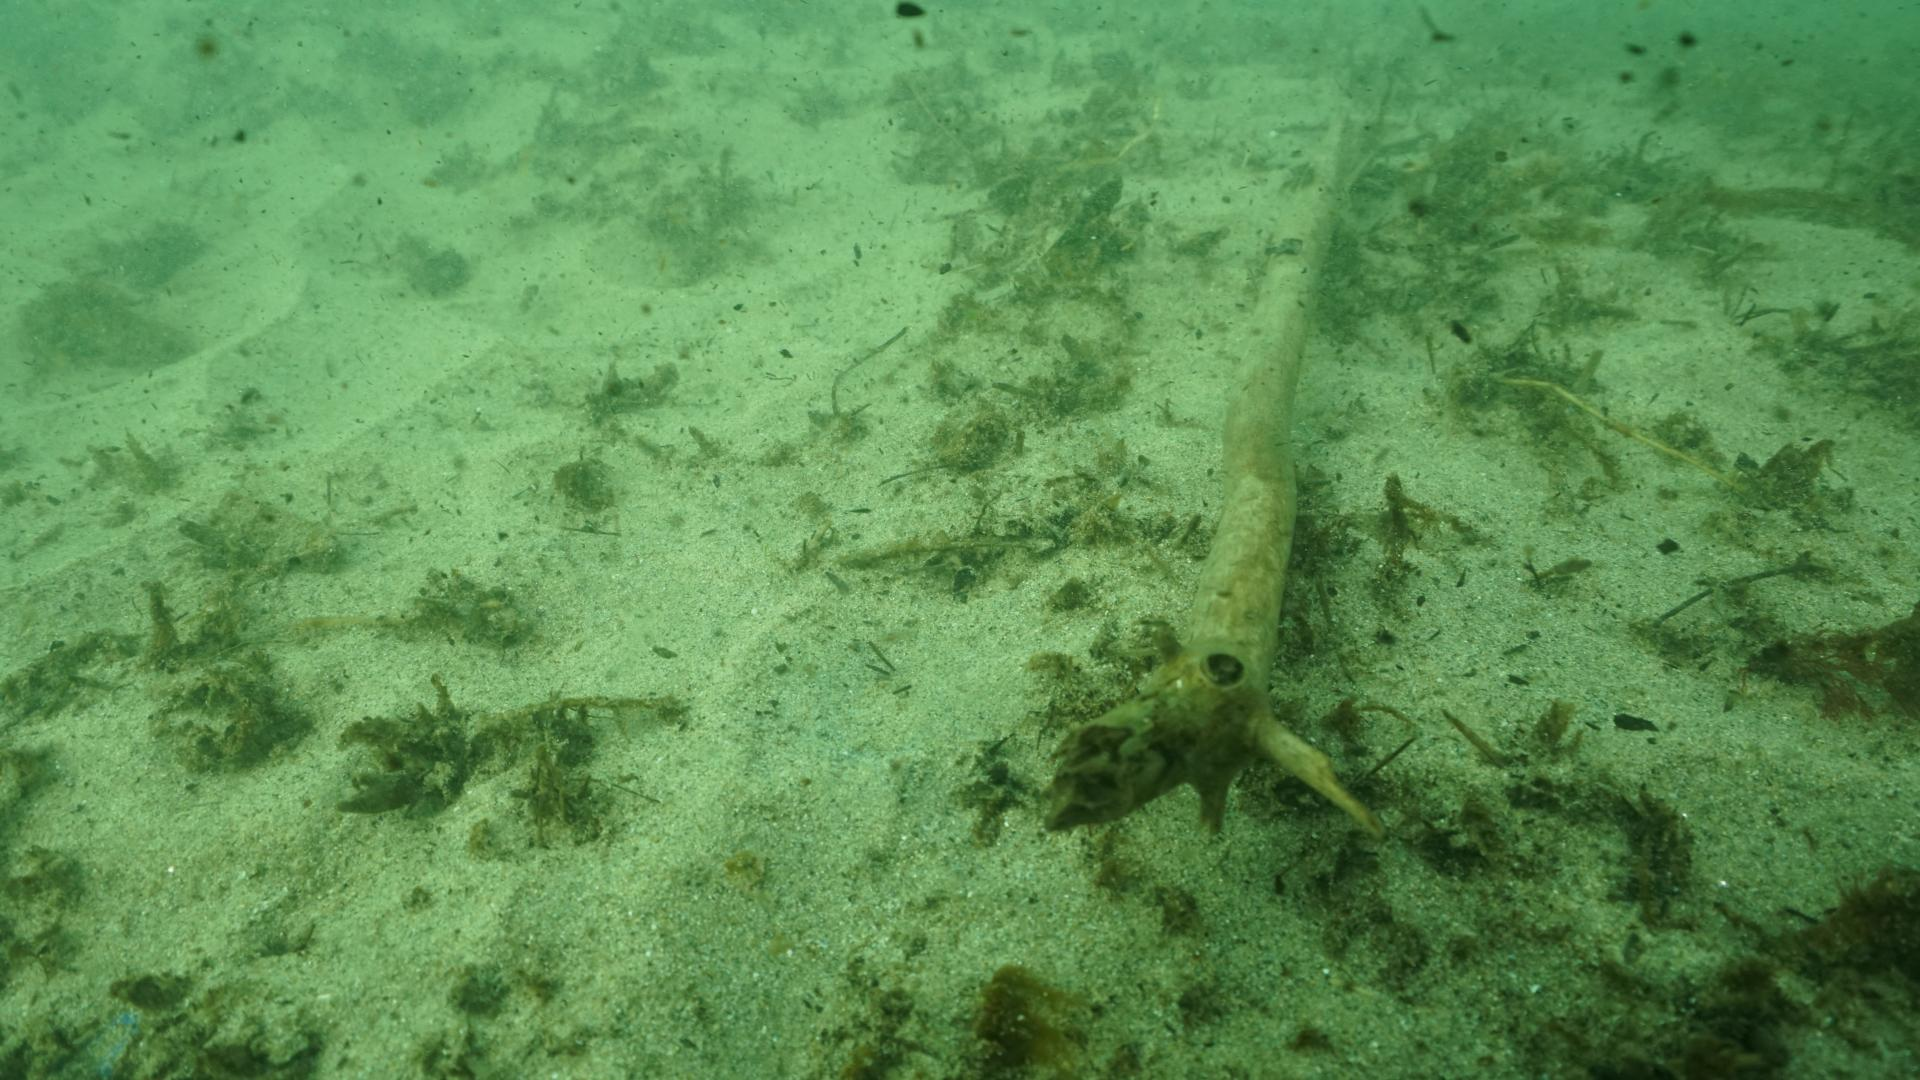wood: (1044, 111, 1377, 837)
